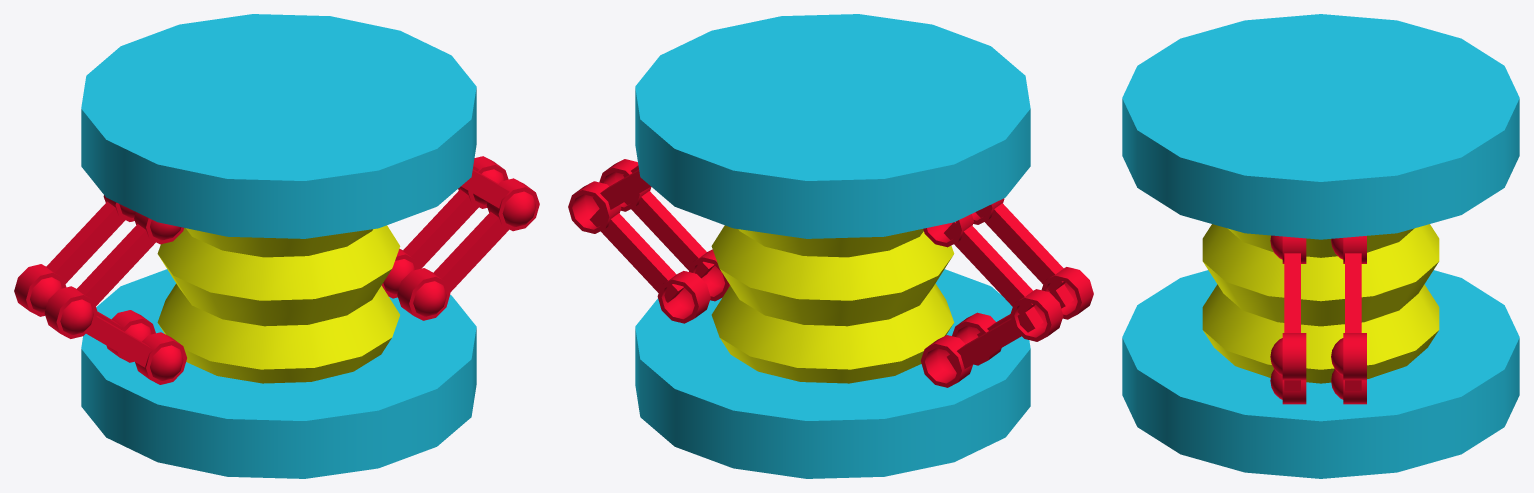
The model's file is Spring.fbx.
3 renders of one model, left to right at view 1: azimuth 30°, elevation 25°; view 2: azimuth 150°, elevation 25°; view 3: azimuth 270°, elevation 25°, orthographic.
Visible parts, largest first — view 1: Spring; view 2: Spring; view 3: Spring.
Boxes of the visible parts, left/top/right/bottom form: Spring: left=14, top=14, right=539, bottom=478; Spring: left=568, top=14, right=1093, bottom=478; Spring: left=1122, top=14, right=1519, bottom=478.
Size of the model in its own units: 1.4 by 0.824 by 1.
